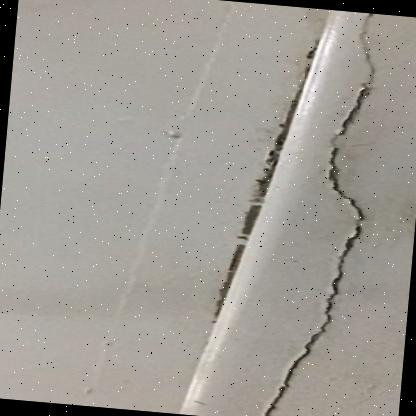Crack: (153, 0, 415, 415)
